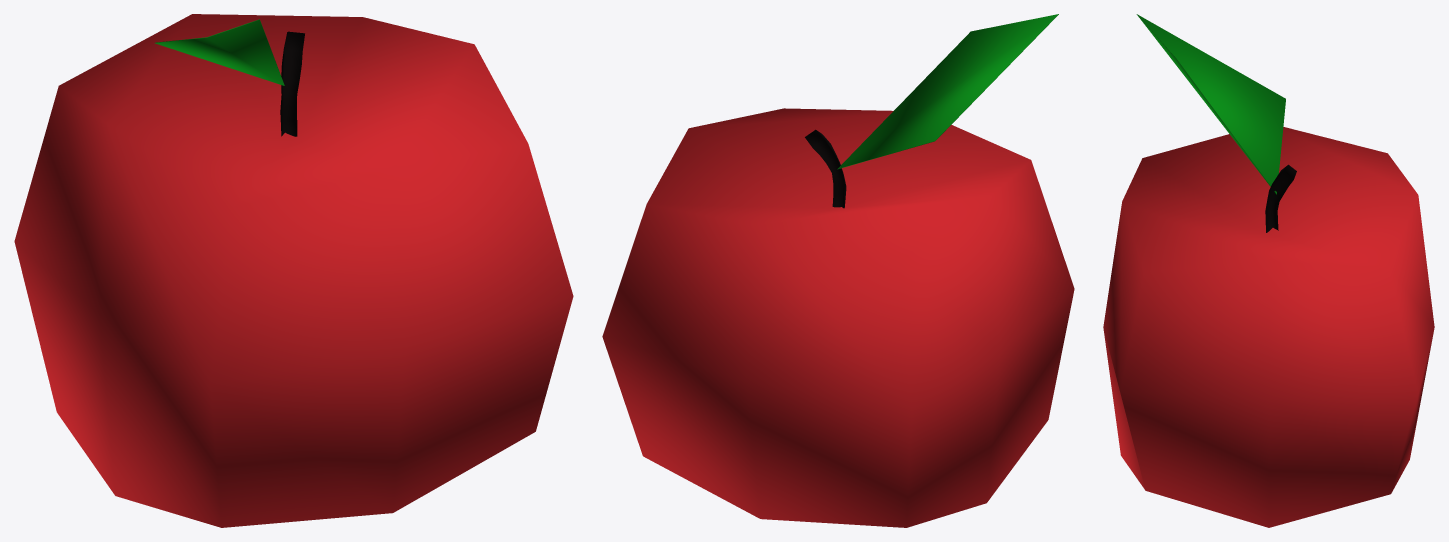
File: apple.obj
3 renders of one model, left to right at view 1: azimuth 30°, elevation 25°; view 2: azimuth 150°, elevation 25°; view 3: azimuth 270°, elevation 25°, orthographic. The views are drawn at different scales.
Parts seen in each view (by area): view 1: Cube.001, Cube.002, Cube.003; view 2: Cube.001, Cube.002, Cube.003; view 3: Cube.001, Cube.002, Cube.003.
Boxes of the visible parts, <box> form: Cube.001: <box>14,14,573,527</box>; Cube.002: <box>155,19,284,85</box>; Cube.003: <box>280,31,304,136</box>; Cube.001: <box>602,108,1074,527</box>; Cube.002: <box>837,14,1058,169</box>; Cube.003: <box>805,129,846,208</box>; Cube.001: <box>1103,127,1434,527</box>; Cube.002: <box>1136,14,1285,194</box>; Cube.003: <box>1265,164,1296,232</box>.
Size of the model in its own units: 2 by 2.58 by 2.
